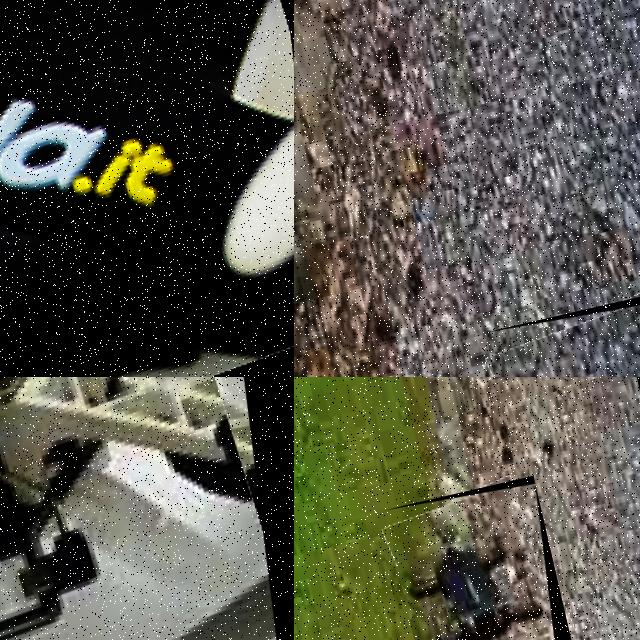0: (384, 475, 575, 640), (484, 287, 640, 377)
drone: (0, 0, 294, 377), (0, 377, 294, 640)
